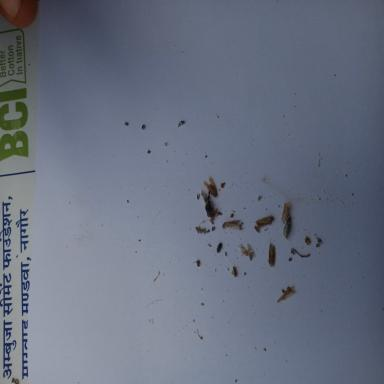pbw: (202, 192, 217, 222), (203, 176, 217, 197), (277, 286, 295, 302), (280, 202, 290, 224), (256, 216, 274, 228), (267, 242, 276, 266), (225, 219, 242, 228), (254, 226, 259, 232)
